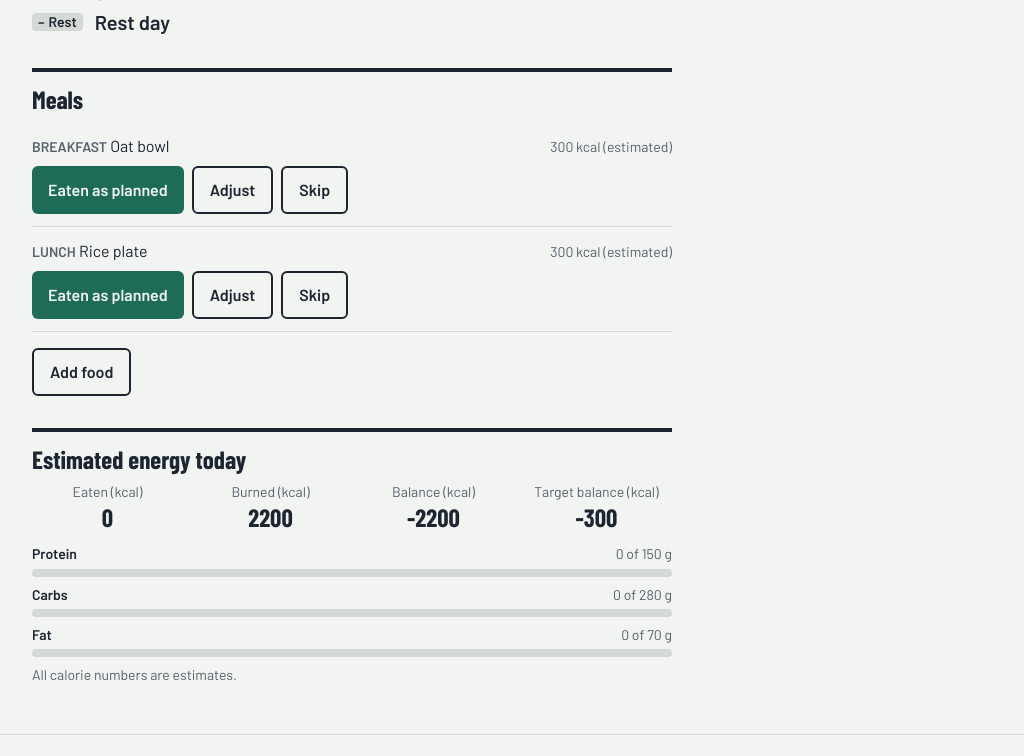
Today meals (F12) › explains when online search is unavailable
This screenshot has width=1024, height=756.
(page scrolled)
Click the button "Add food" at (82, 372), box [32,348,131,396]
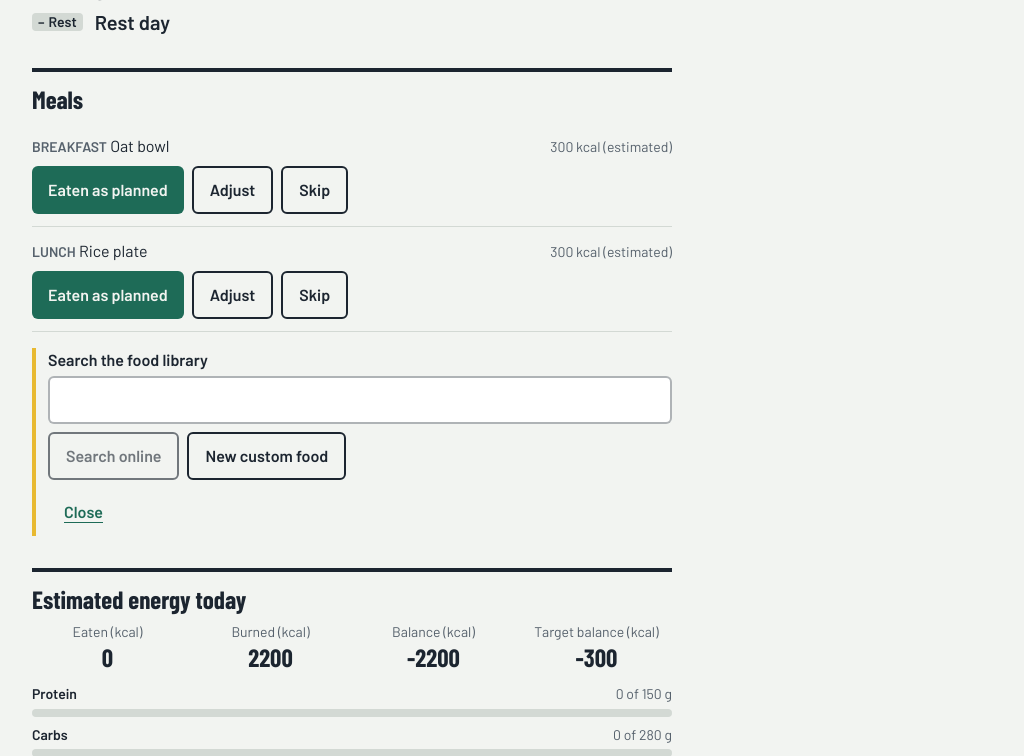
Type "yogurt" into the search field labelled "Search the food library" at (360, 400), box [48,376,672,424]
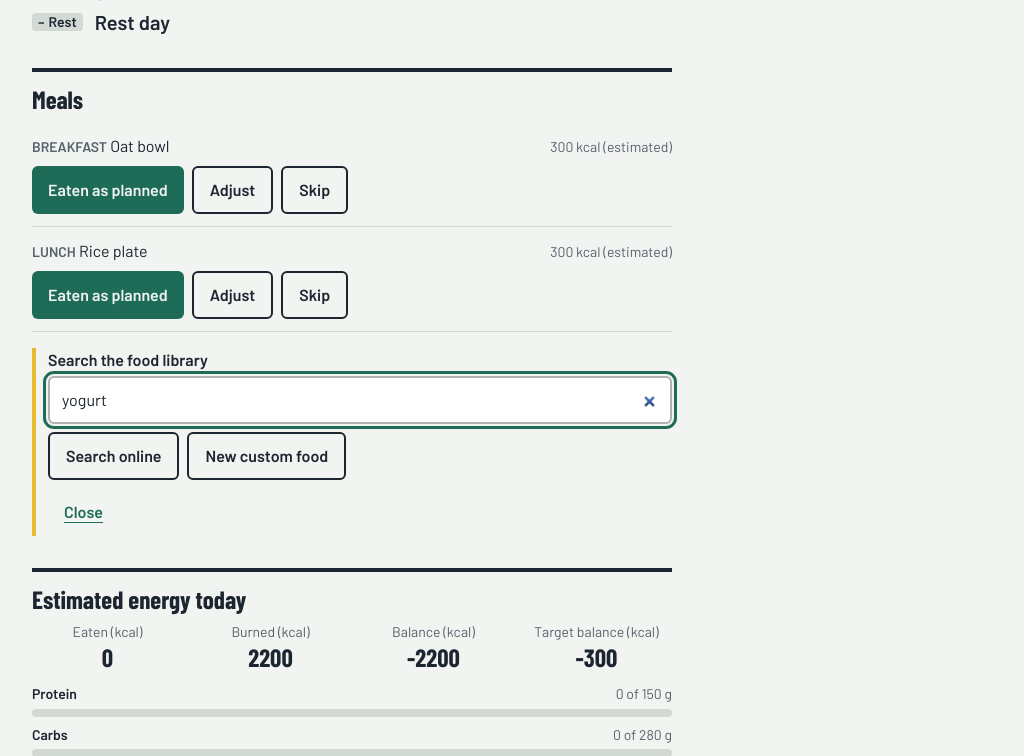
Click the button "Search online" at (114, 456), box [48,432,180,480]
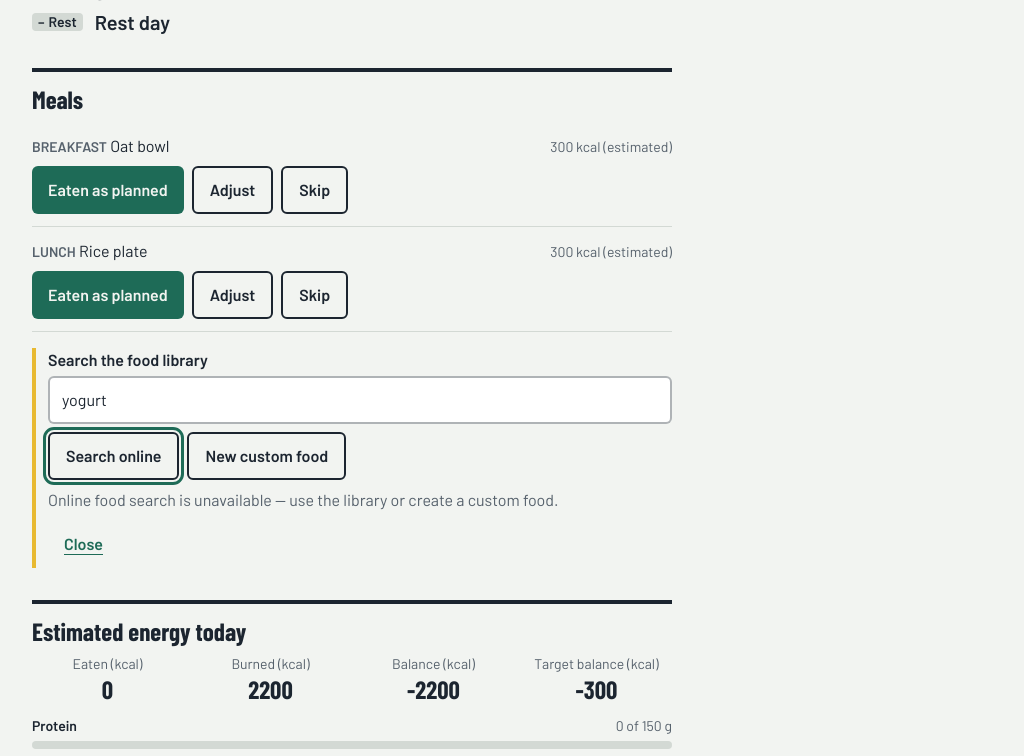
Expected: the text "Online food search is unavailable — use the library or create a custom food." is shown, [48,490,558,509]
